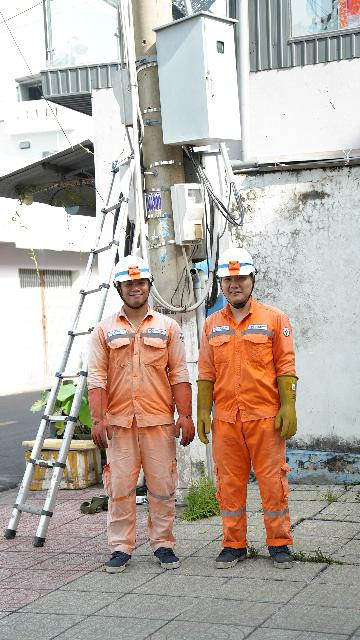gloves: (260, 363, 304, 441), (87, 383, 118, 456), (164, 378, 197, 444), (192, 374, 216, 445)
helmet: (101, 248, 156, 288), (209, 245, 262, 284)
shoes: (92, 543, 139, 581), (256, 531, 301, 570), (214, 528, 252, 573), (141, 539, 180, 569)
